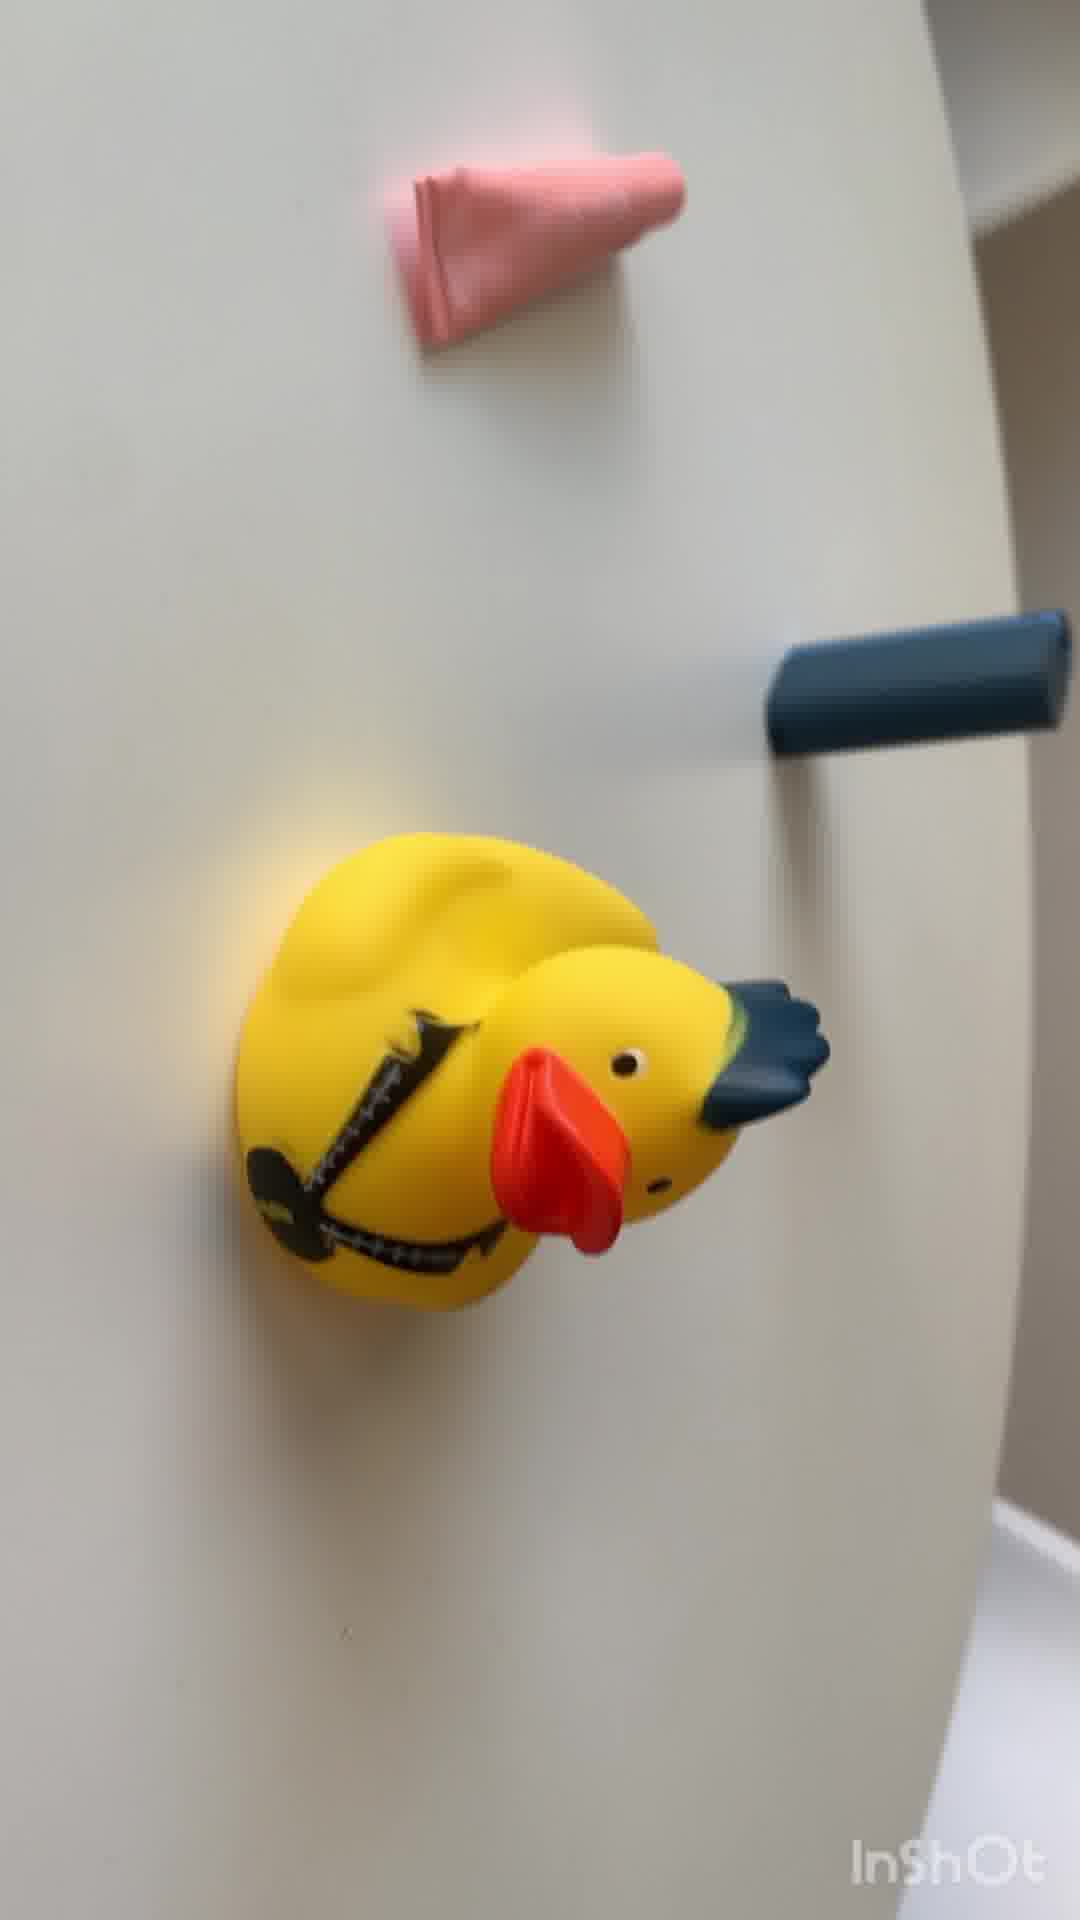duck: (233, 836, 828, 1317)
glo: (762, 611, 1080, 777)
lip balm: (421, 128, 684, 359)
